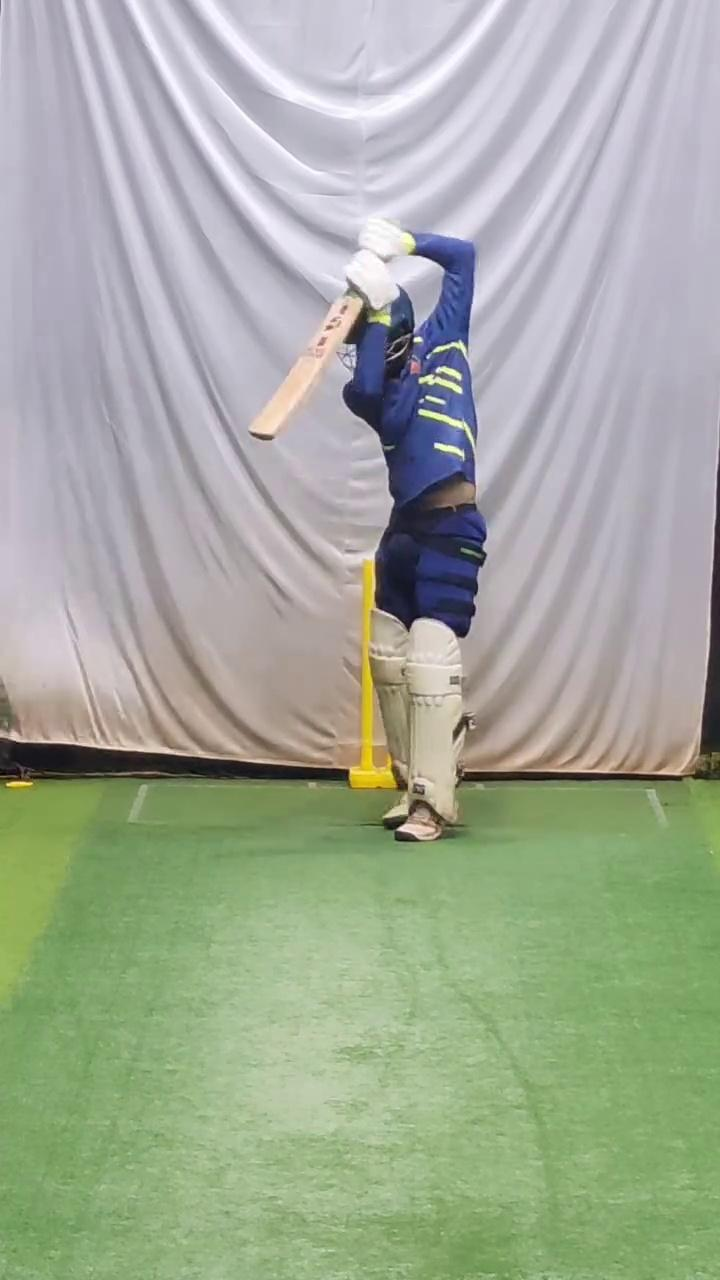bat: (242, 286, 366, 451)
